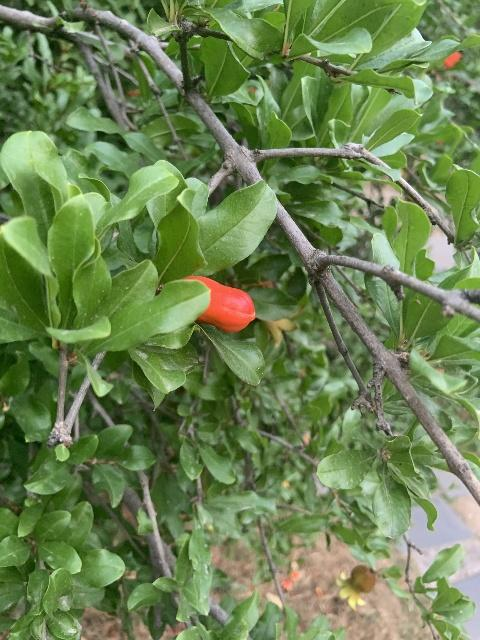bud: (177, 275, 255, 333)
early-fruit: (335, 564, 375, 611)
